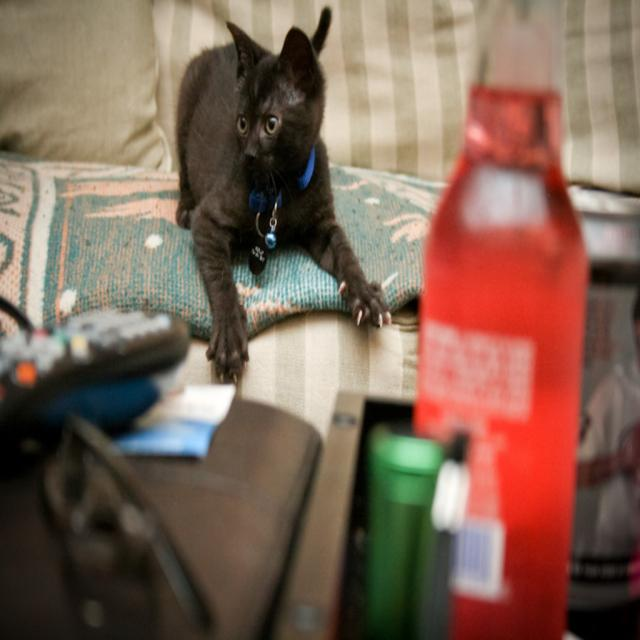Cat: (174, 0, 394, 387)
